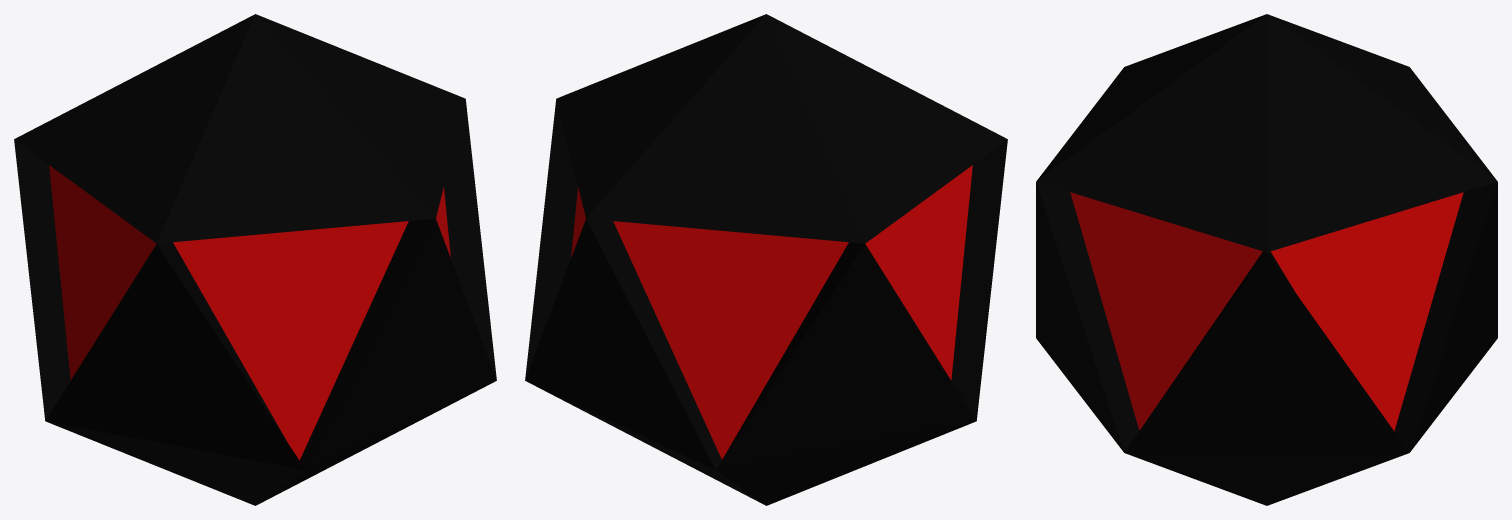
File: collecteble 2.fbx
The picture shows the model from 3 angles, left to right: view 1: azimuth 30°, elevation 25°; view 2: azimuth 150°, elevation 25°; view 3: azimuth 270°, elevation 25°; orthographic projection.
Parts seen in each view (by area): view 1: Icosphere.001; view 2: Icosphere.001; view 3: Icosphere.001.
Part boxes in pixels (bbox=[...]): Icosphere.001: bbox=[14, 14, 496, 505]; Icosphere.001: bbox=[525, 14, 1007, 505]; Icosphere.001: bbox=[1036, 14, 1497, 505].
Size of the model in its own units: 0.7155 by 0.8 by 0.6805.
